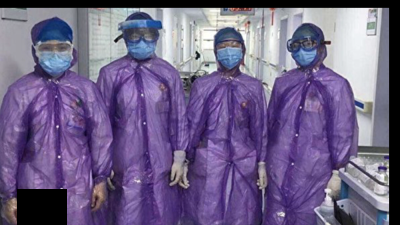with_mask: (34, 40, 74, 75), (124, 27, 158, 59), (289, 37, 319, 65), (216, 39, 243, 68)
